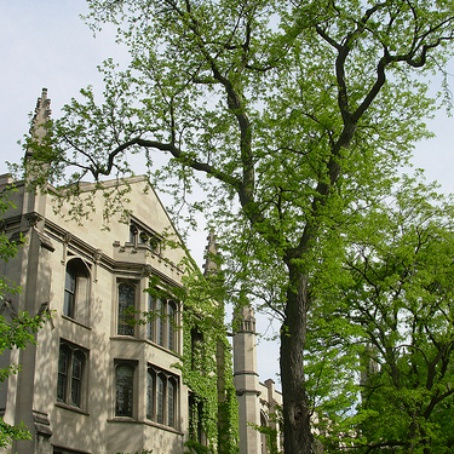building: (2, 182, 236, 454)
tree: (78, 1, 454, 452)
